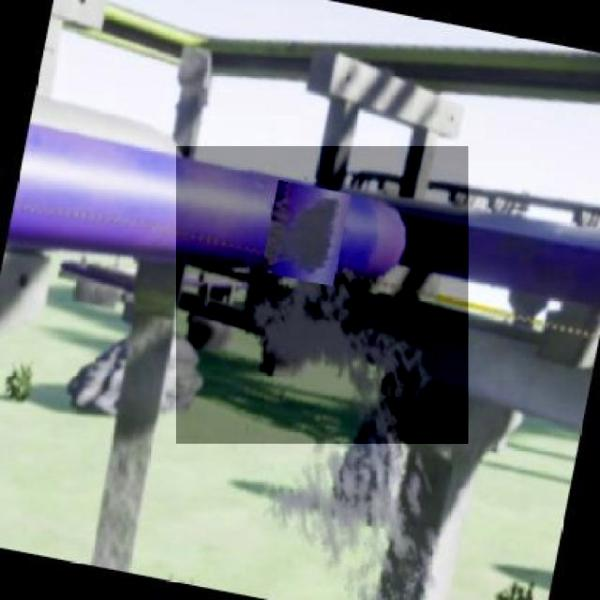gas: (176, 146, 468, 444)
